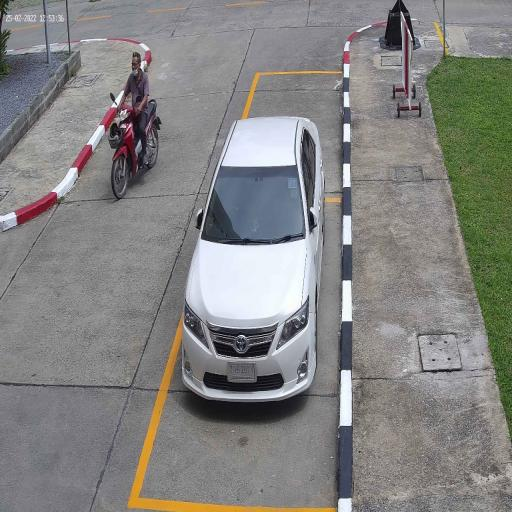car: (182, 114, 326, 414)
motorcycle: (108, 100, 162, 203)
